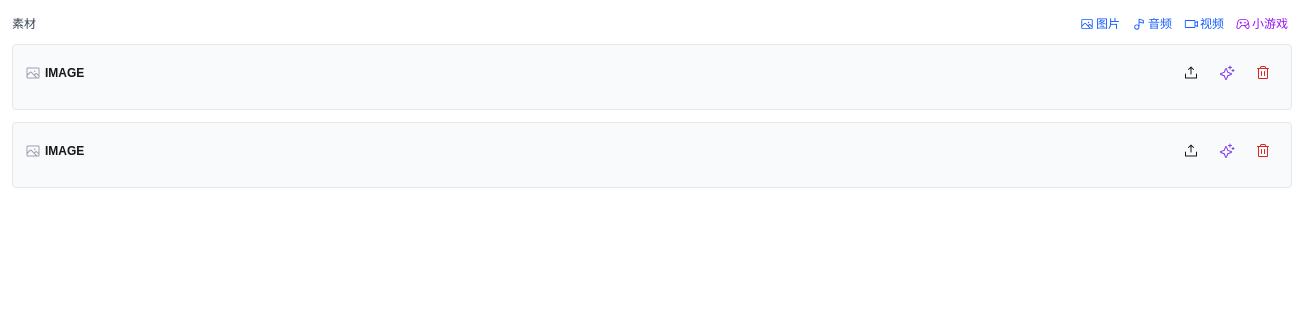
Test: AssetEditor › 删除前项后应该保留后一项的组件 identity、展开状态和焦点
The image size is (1304, 321).
Step 1. Click the 2nd button titled "AI 生成素材" → [1227, 151], box [1211, 135, 1243, 167]
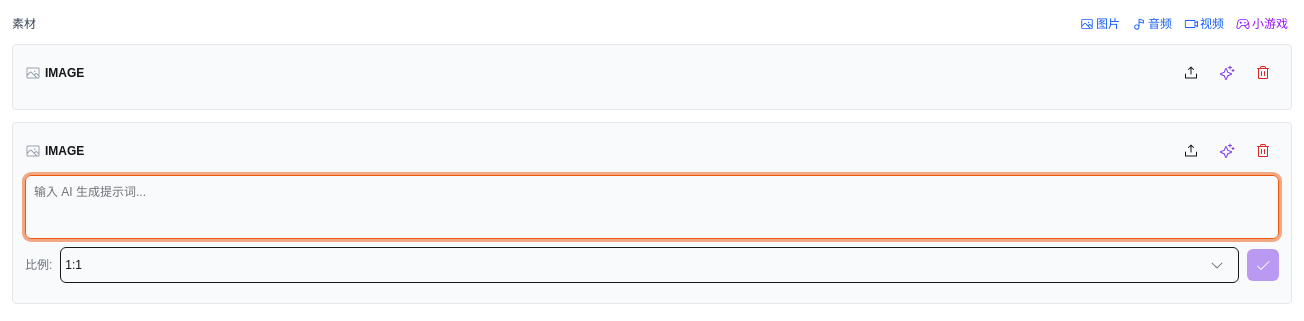
Step 2. Click the 1st button titled "删除素材" → [1263, 73], box [1247, 57, 1279, 89]
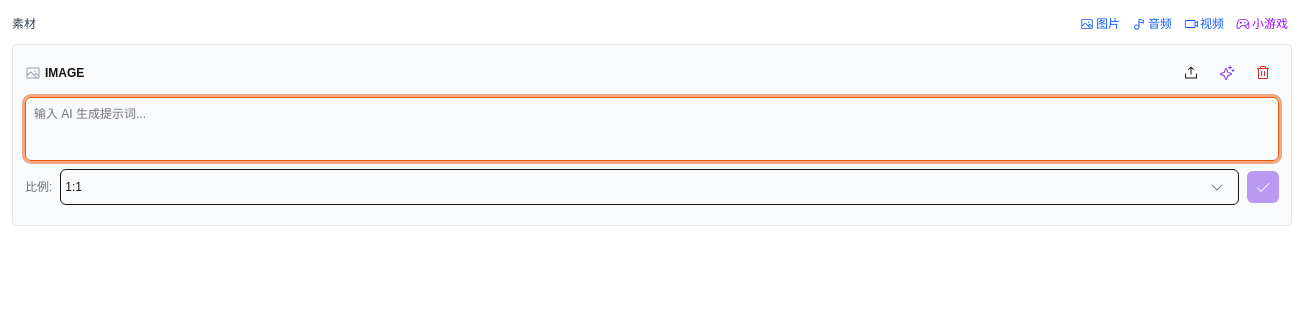
Expected: the number of buttons titled "AI 生成素材" is 1, [1211, 57, 1243, 89]
